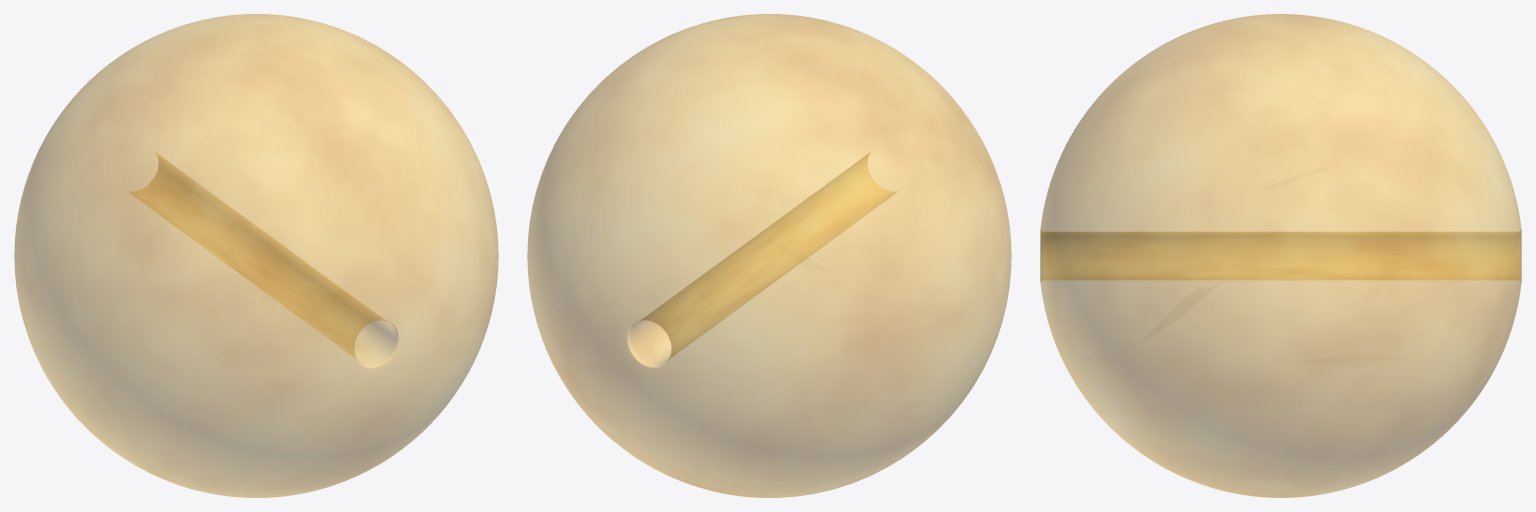
The model's file is citrine-10mm.glb.
3 views of the same model, side by side, from view 1: azimuth 30°, elevation 25°; view 2: azimuth 150°, elevation 25°; view 3: azimuth 270°, elevation 25° (orthographic).
Visible parts, largest first — view 1: citrine.001; view 2: citrine.001; view 3: citrine.001.
Part boxes in pixels (<box>): citrine.001: <box>14,14,498,497</box>; citrine.001: <box>527,14,1011,497</box>; citrine.001: <box>1040,14,1521,497</box>.
Size of the model in its own units: 0.01 by 0.01 by 0.00994.
2 materials, 1 textured.
